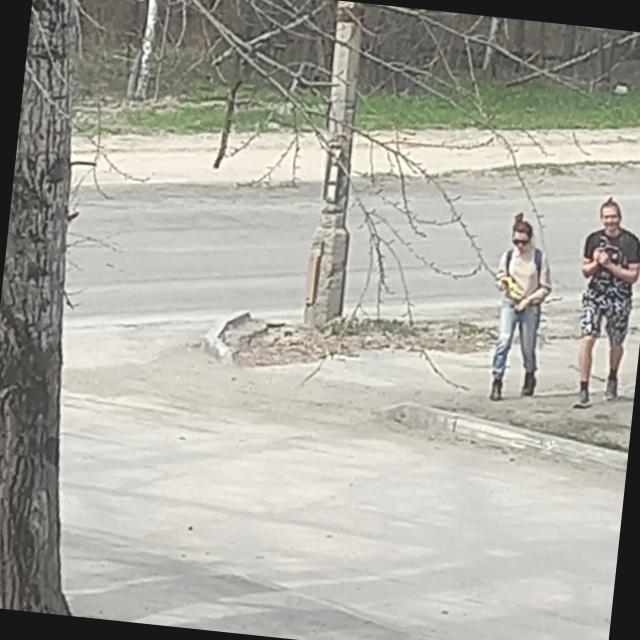person: (565, 194, 640, 412), (482, 210, 559, 404)
